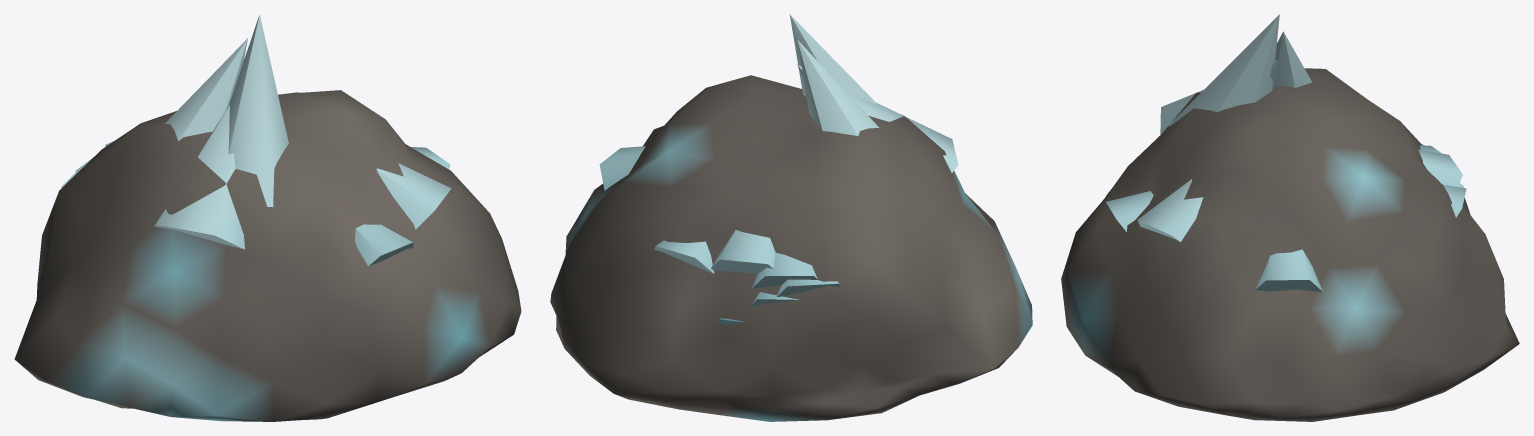
File: mena_cristal.glb
3 views of the same model, side by side, from view 1: azimuth 30°, elevation 25°; view 2: azimuth 150°, elevation 25°; view 3: azimuth 270°, elevation 25° (orthographic). The views are drawn at different scales.
Parts seen in each view (by area): view 1: mena_cristal_malla; view 2: mena_cristal_malla; view 3: mena_cristal_malla.
Boxes of the visible parts, x1,y1,x2,y2 form: mena_cristal_malla: (14, 14, 521, 421); mena_cristal_malla: (550, 14, 1032, 421); mena_cristal_malla: (1061, 14, 1519, 421).
Size of the model in its own units: 0.6466 by 0.4867 by 0.5937.
